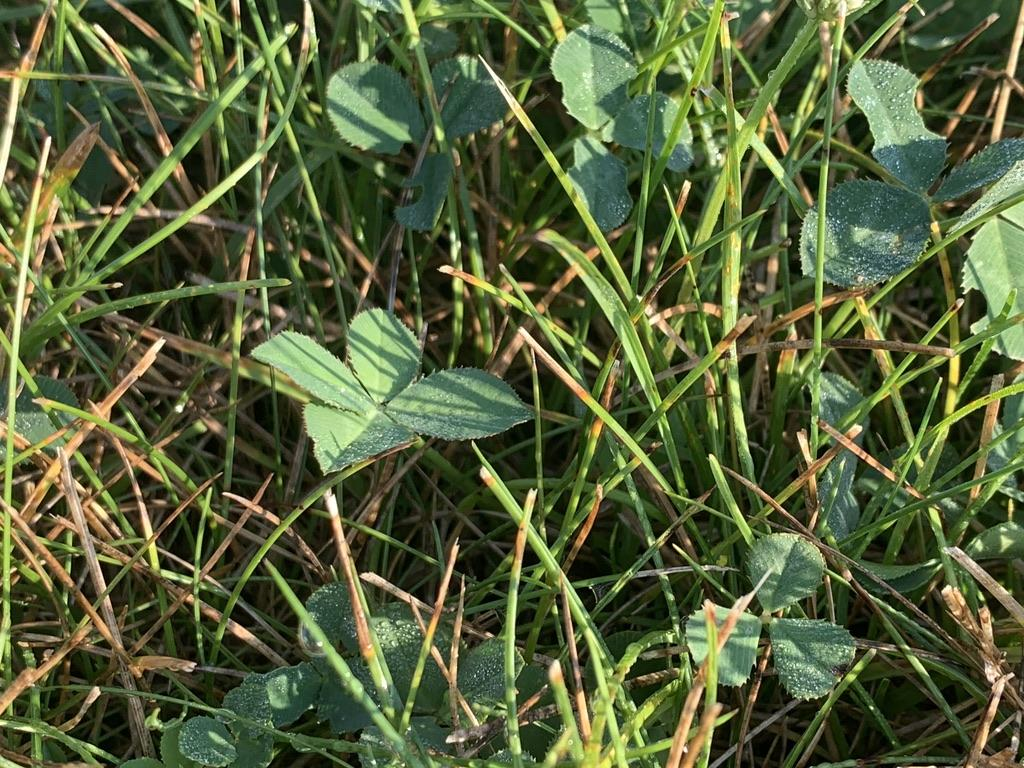4-Leaf-Clovers: (249, 300, 530, 477)
